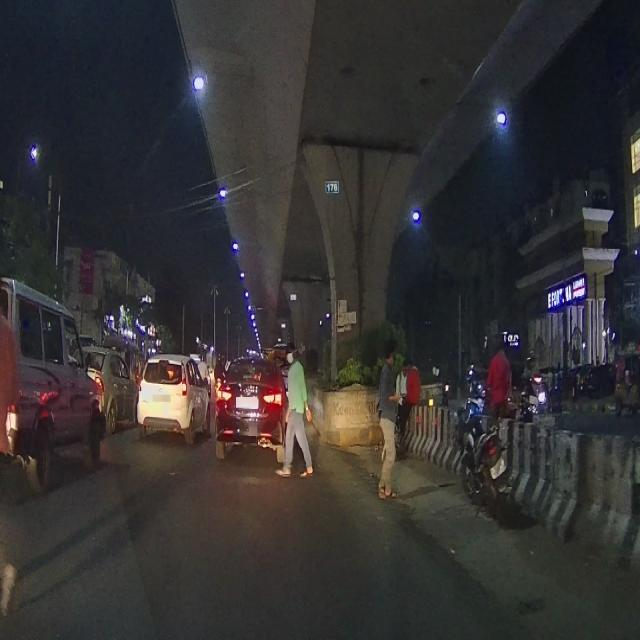car ahead at: (215, 348, 286, 470), (132, 348, 211, 453)
motorcycle ahead at: (448, 392, 516, 526)
person ahead at: (374, 334, 414, 509), (274, 341, 320, 488)
